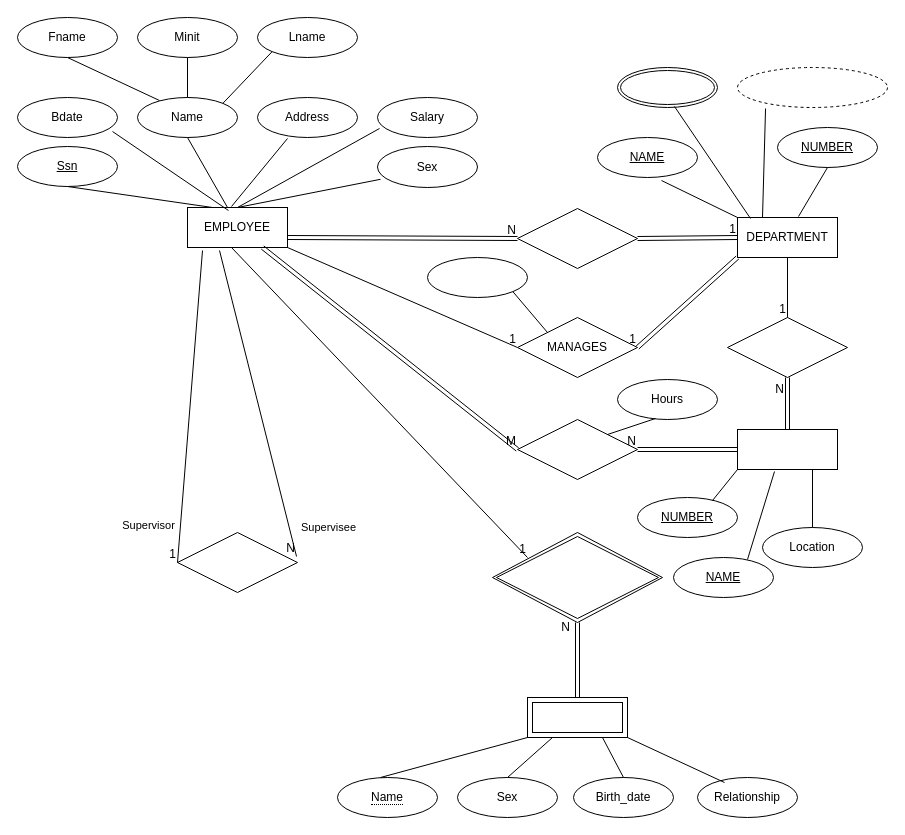
Some shapes in this 905 by 835 pixel diagram are drawn without their labels. The box of each missing label's shape, as (x1, y1, x2, y2) in pixels:
CONTROLS: (726, 316, 848, 378)
DEPENDENT: (526, 696, 628, 738)
DEPENDENTS_OF: (492, 532, 662, 622)
Locations: (616, 66, 718, 108)
Number_of_employees: (736, 66, 888, 108)
PROJECT: (736, 428, 838, 470)
Start_date: (426, 256, 528, 298)
SUPERVISION: (176, 532, 298, 592)
WORKS_FOR: (516, 208, 638, 268)
WORKS_ON: (516, 418, 638, 480)
